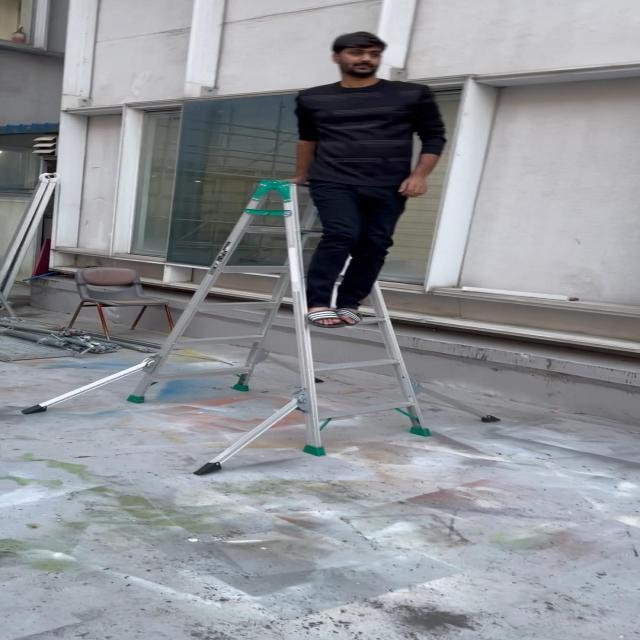boots: (14, 174, 506, 482)
vest: (279, 28, 453, 338)
